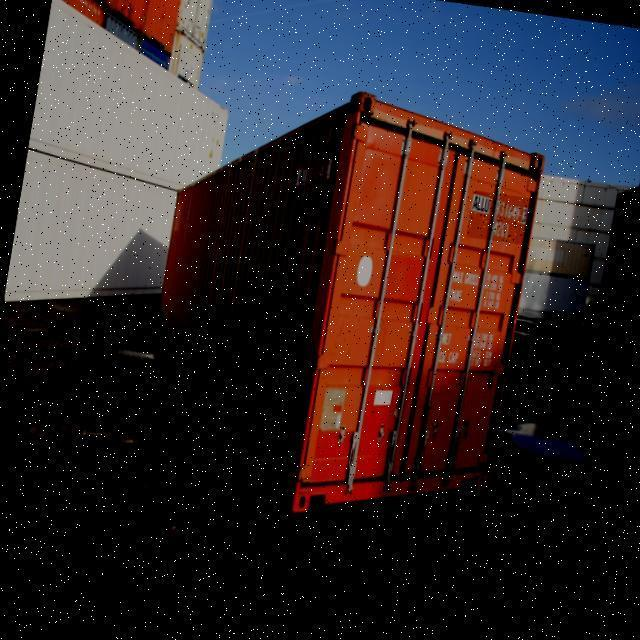container_number_h: (464, 192, 531, 251)
